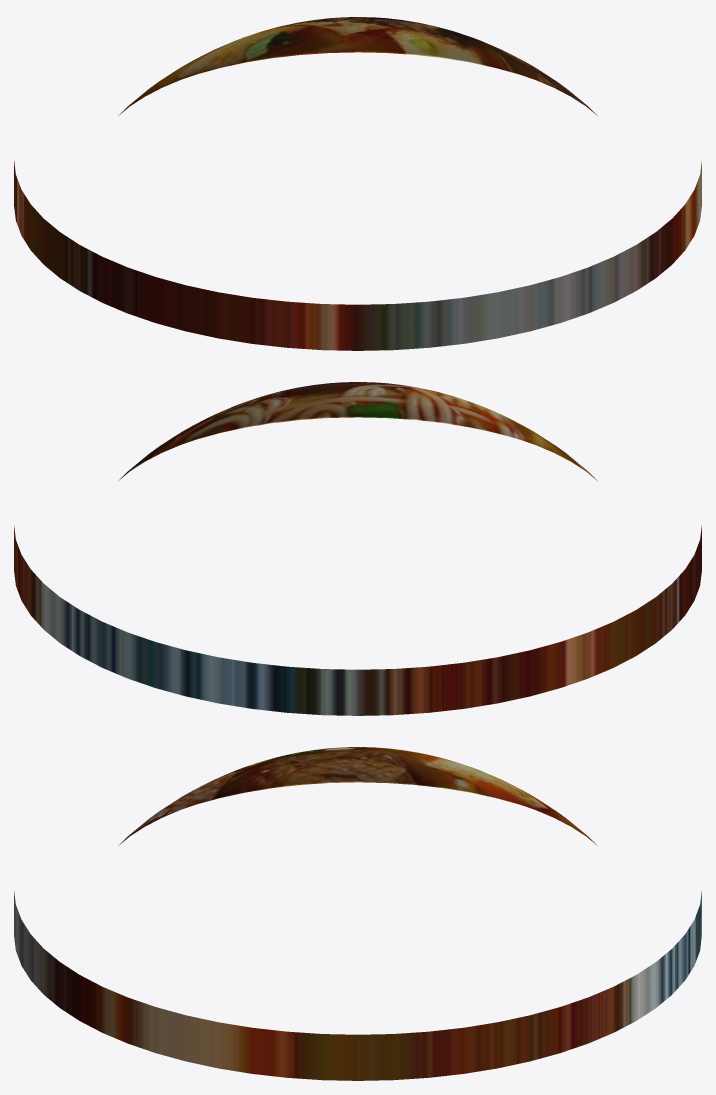
File: thai.glb
The picture shows the model from 3 angles, top to bottom: view 1: azimuth 30°, elevation 25°; view 2: azimuth 150°, elevation 25°; view 3: azimuth 270°, elevation 25°; orthographic projection.
Parts seen in each view (by area): view 1: thai; view 2: thai; view 3: thai.
Boxes of the visible parts, box(x1,y1,x2,y2) form: thai: box(14, 17, 701, 350); thai: box(14, 382, 701, 715); thai: box(14, 747, 701, 1080).
Bounding box in the file's own units: 0.27 × 0.069 × 0.27.
Materials: 1 (1 with a texture image).
